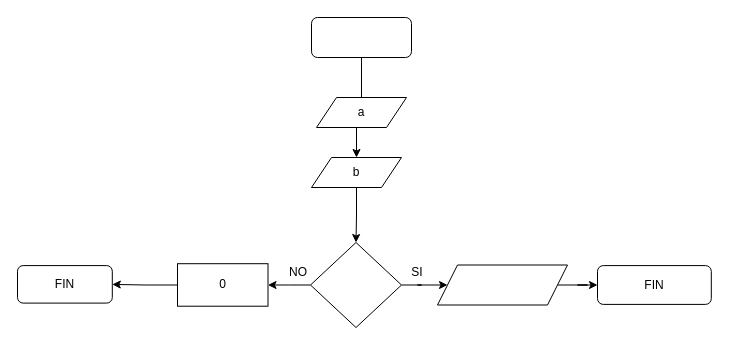
This 729x345 diagram has some shape labels left out. Here are the shapes that lost their labels. From the top down, the centre of each, then its label:
the point at 361,37: INICIO
the point at 356,285: a y b >= 0 ?
the point at 502,284: (a+b)*sum.size
